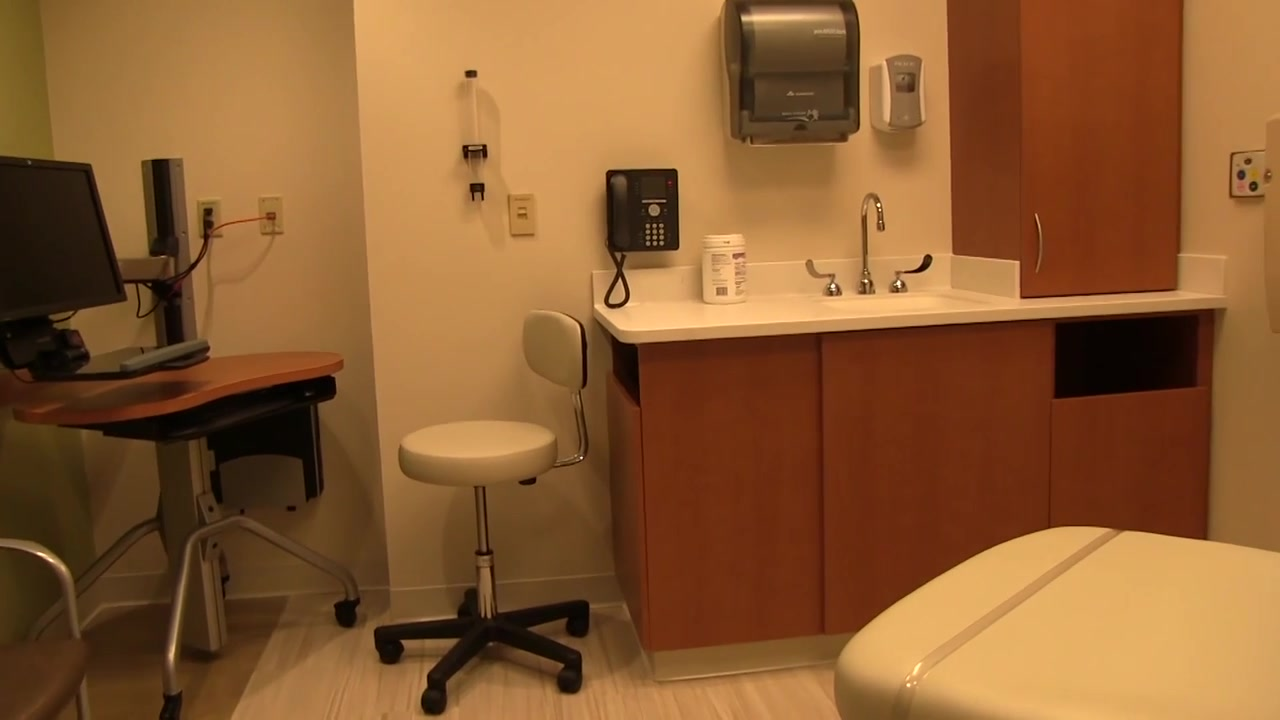cabinet: (953, 1, 1187, 300)
chair: (373, 309, 589, 715), (1, 539, 94, 720)
computer: (1, 156, 130, 323)
counter: (598, 290, 1242, 661)
countertop: (598, 290, 1011, 348)
dispenser: (720, 1, 860, 146), (871, 54, 927, 134)
exam_table: (833, 523, 1280, 720)
faucet: (805, 191, 933, 295)
handle: (1033, 212, 1044, 273)
sink: (811, 286, 992, 318)
table: (1, 345, 362, 716)
telephone: (600, 168, 680, 310)
